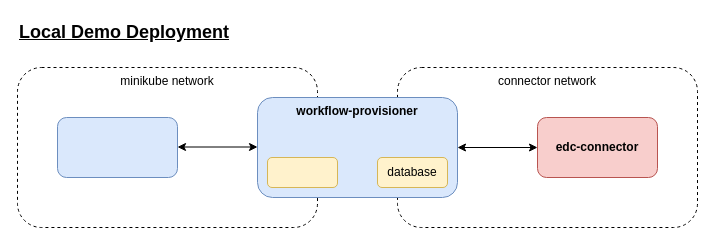
The diagram is 715 pixels wide and 245 high, and some of its shapes have lost their labels. The shapes that lost their labels are listed below. From the top down, each one's centre as x and y in pixels, then its label:
At pixel 117 147: "[minikube] k8s-cluster".
At pixel 302 172: "kubeconfig".
